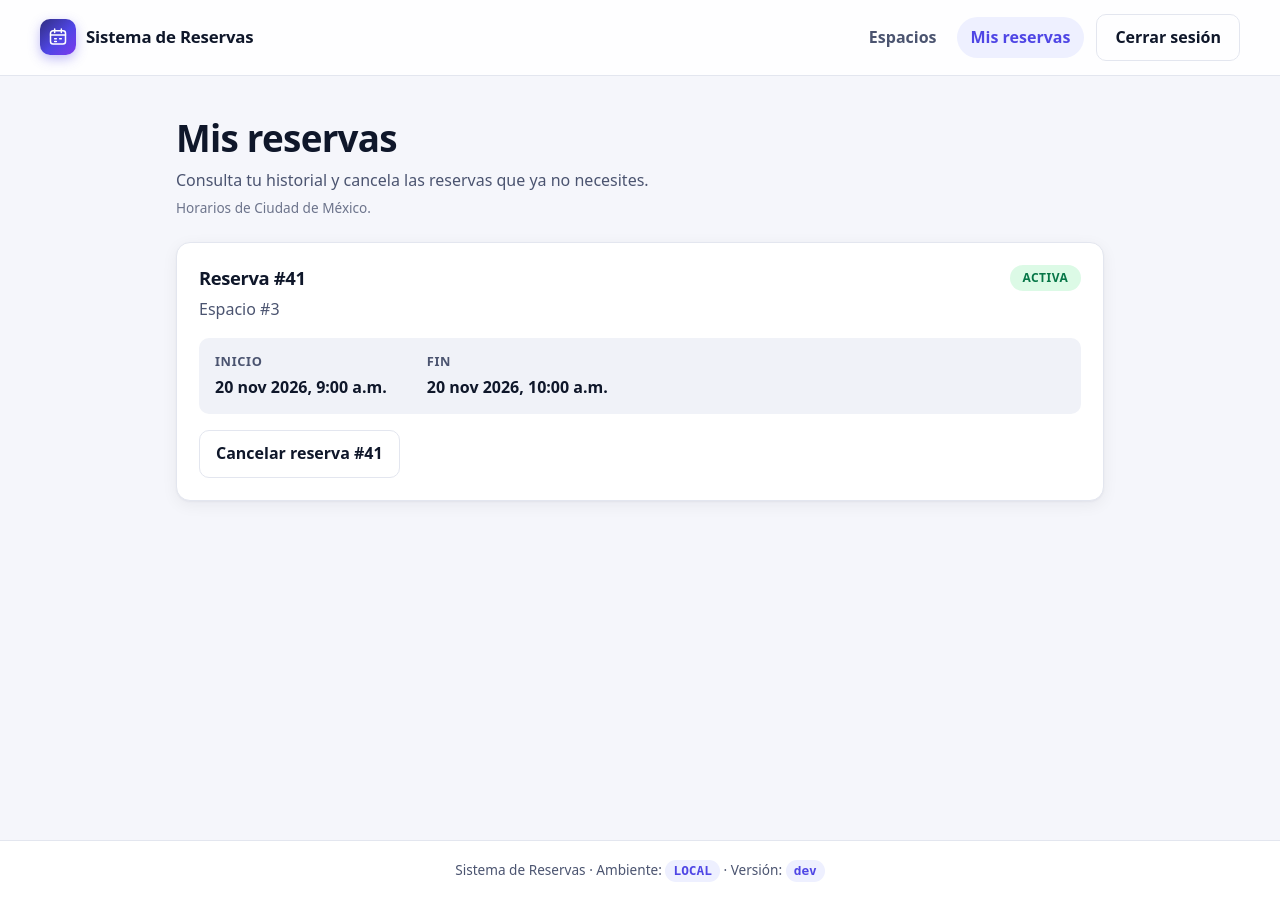
un 403 al cancelar muestra el error sin cerrar la sesión ni alterar la reserva
Click the button "Cancelar reserva #41" at (299, 454), box x1=199 y1=430 x2=400 y2=478
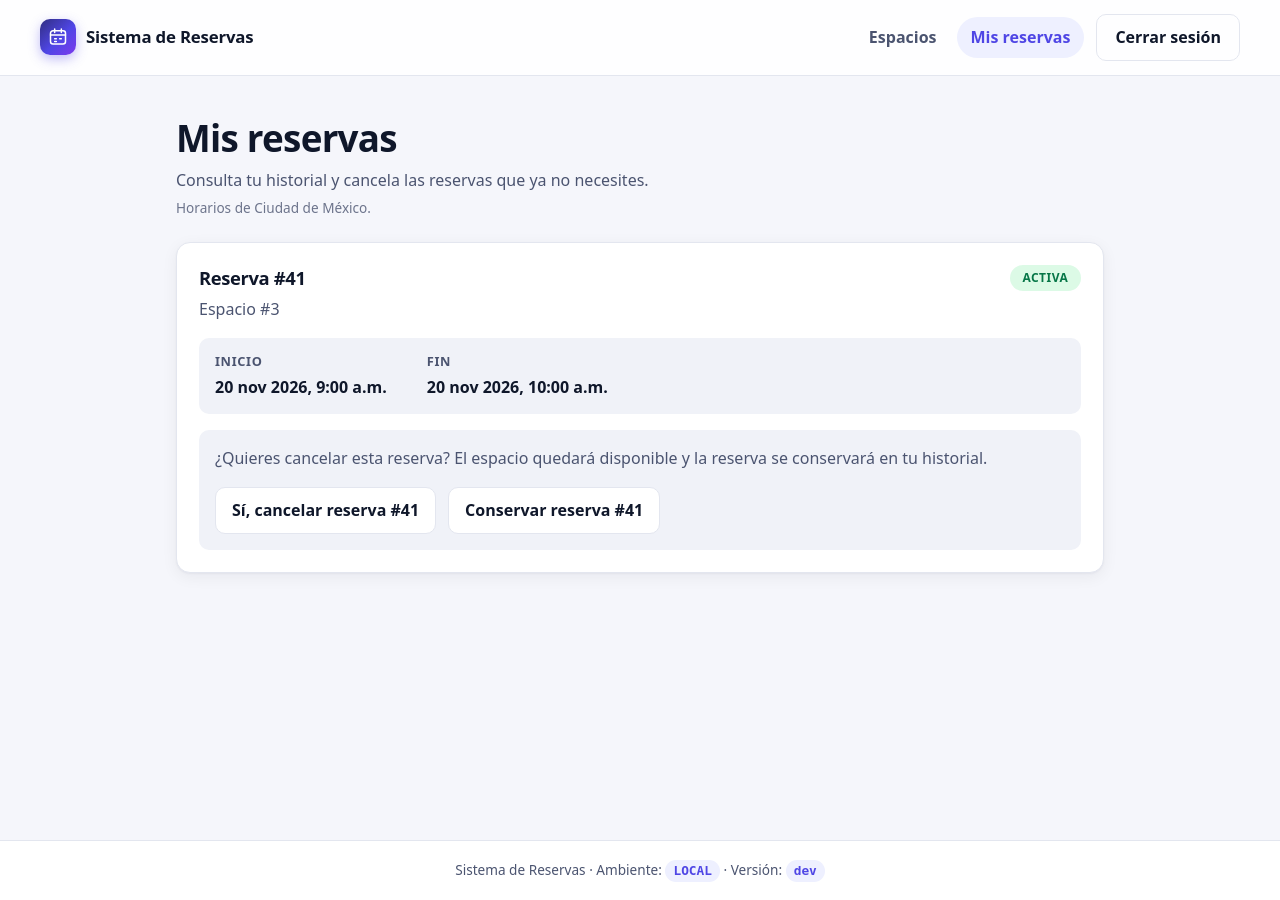
Click the button "Sí, cancelar reserva #41" at (326, 511), box x1=215 y1=487 x2=436 y2=534
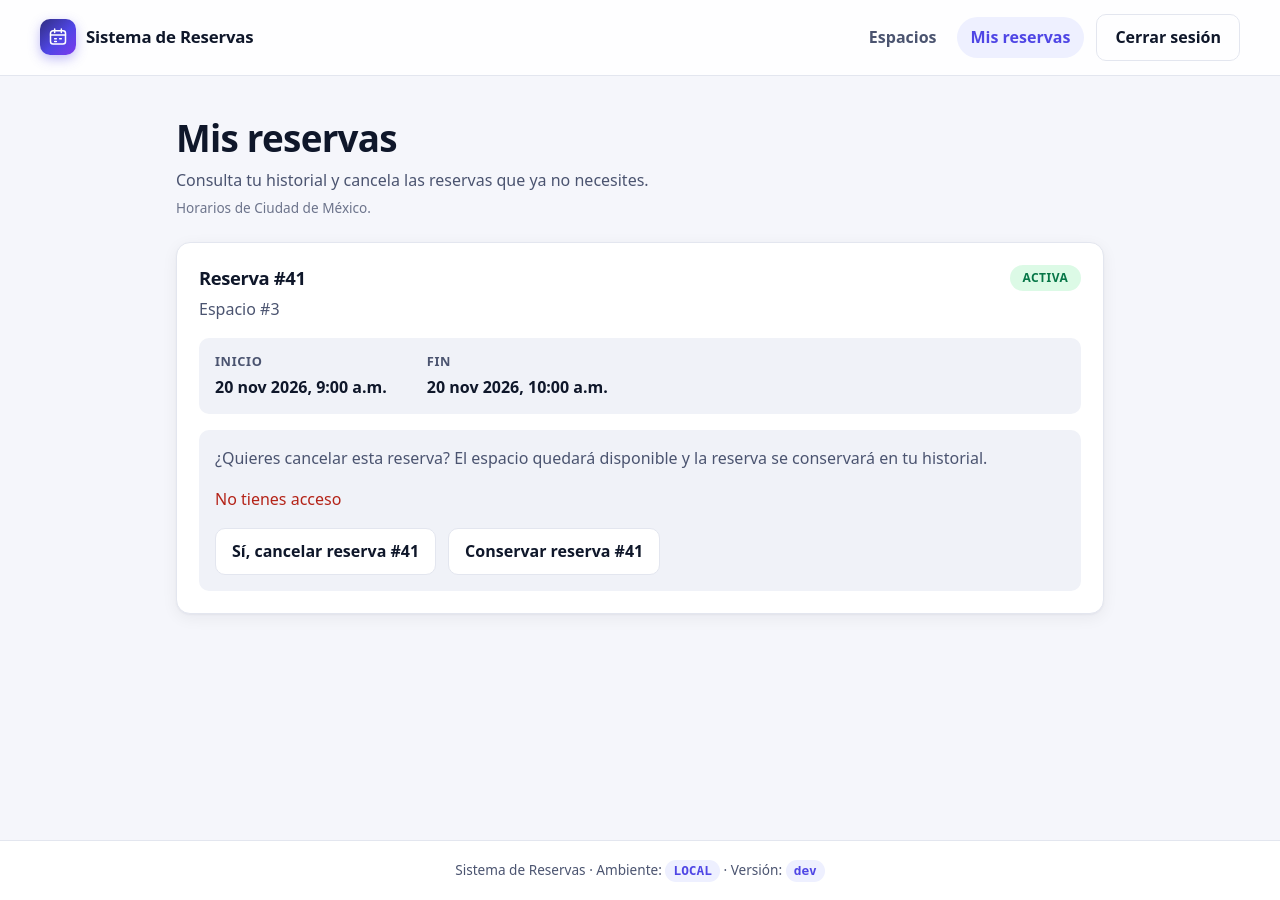
Expected: the text "ACTIVA" is shown, x1=1010 y1=265 x2=1081 y2=291
Now the message reads "No tienes acceso", box x1=215 y1=488 x2=341 y2=510
